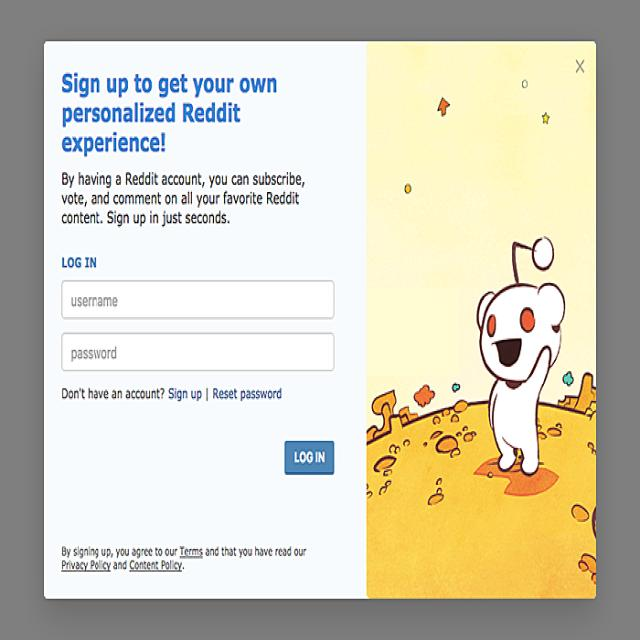Button: (282, 435, 338, 481)
Container: (38, 33, 604, 610)
Image: (363, 38, 600, 605)
Input-field: (59, 273, 338, 325), (59, 328, 343, 375)
Text: (59, 68, 284, 161), (59, 170, 309, 228), (58, 541, 311, 584), (59, 385, 284, 411), (59, 251, 104, 270)
